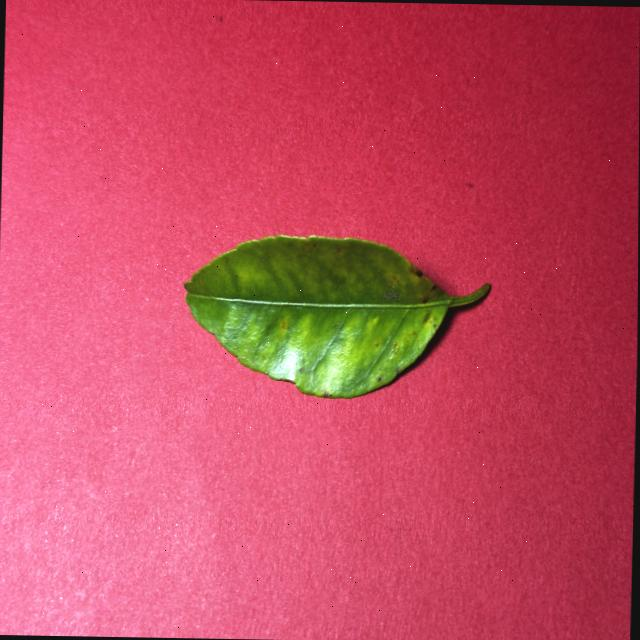greening: (184, 234, 490, 397)
